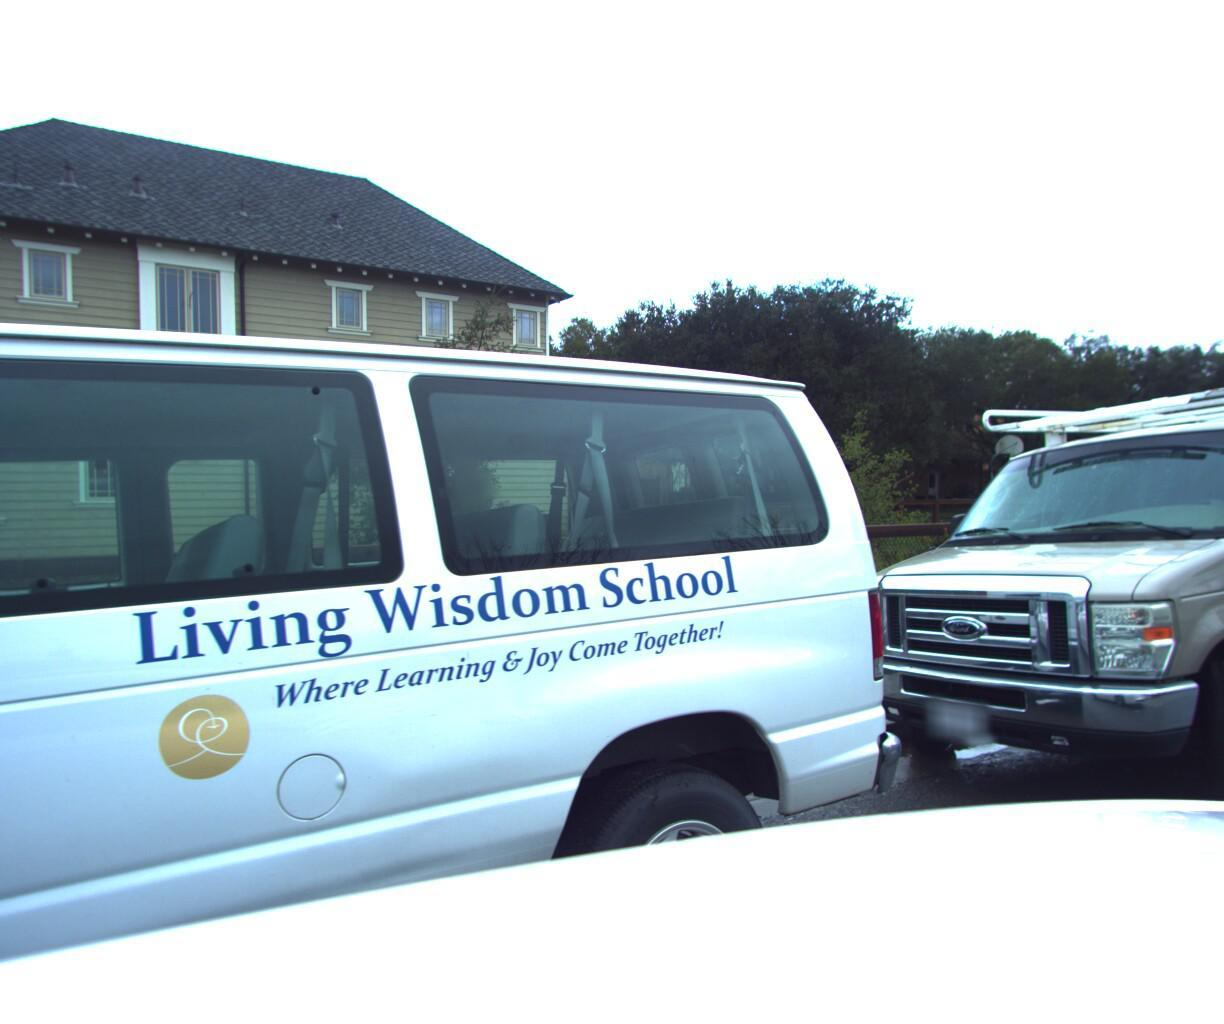car: (0, 0, 937, 1024), (819, 362, 1224, 886)
